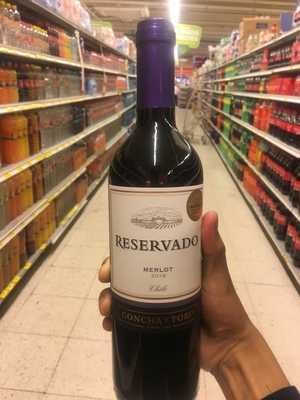reservado merlot: (94, 25, 217, 400)
